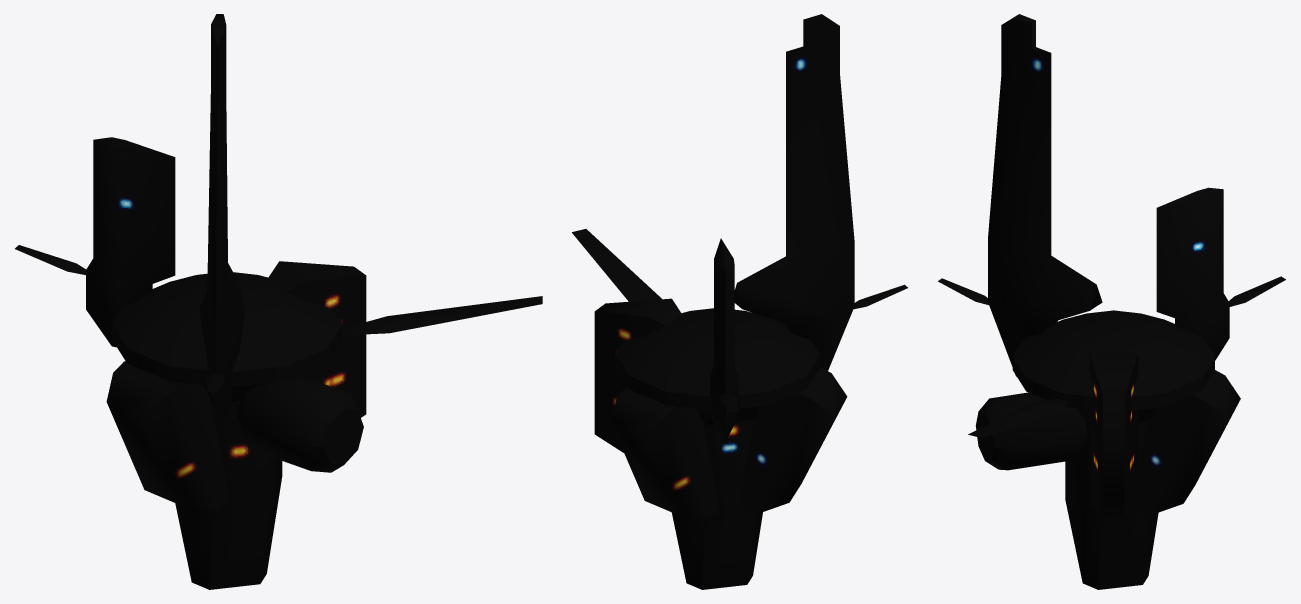
Rendered from hgn_sensor_probe_01.glb.
The picture shows the model from 3 angles, left to right: view 1: azimuth 30°, elevation 25°; view 2: azimuth 150°, elevation 25°; view 3: azimuth 270°, elevation 25°; orthographic projection. The views are drawn at different scales.
Parts seen in each view (by area): view 1: hgn_sensor_probe_01; view 2: hgn_sensor_probe_01; view 3: hgn_sensor_probe_01.
Part boxes in pixels (left/top/right/bottom): hgn_sensor_probe_01: left=15, top=14, right=542, bottom=589; hgn_sensor_probe_01: left=572, top=14, right=907, bottom=589; hgn_sensor_probe_01: left=938, top=14, right=1285, bottom=589.
Size of the model in its own units: 0.3718 by 0.5876 by 0.3489.
Materials: 1 (1 with a texture image).
